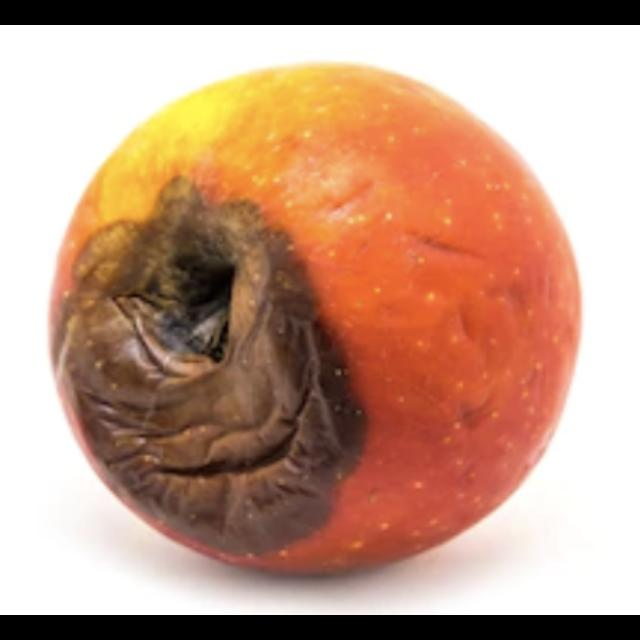Apel Tidak Segar: (38, 54, 590, 582)
